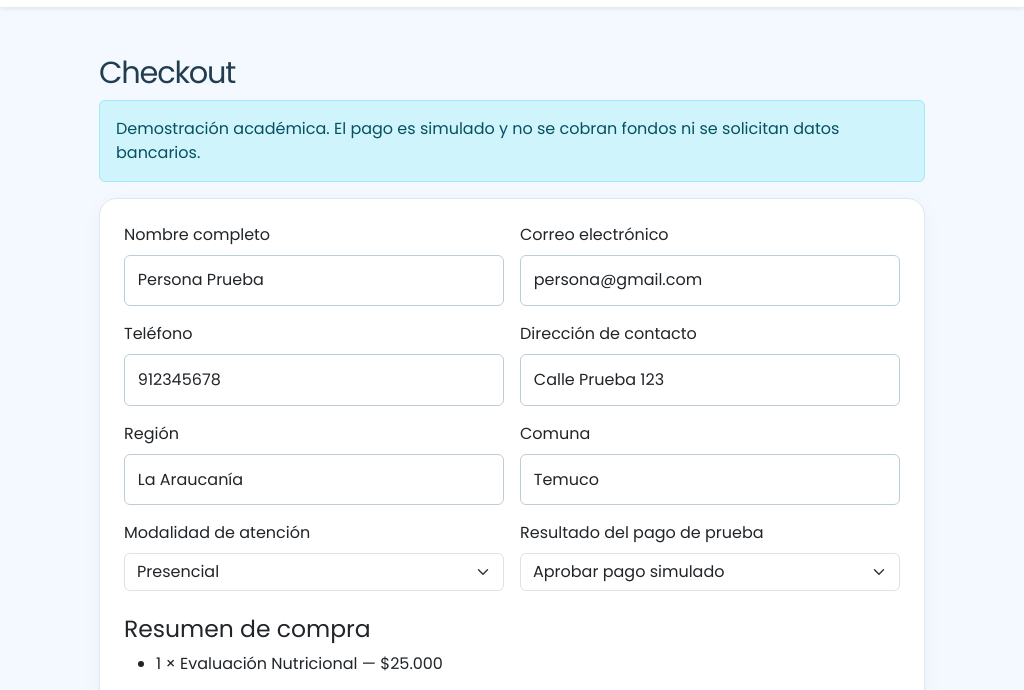
Test: Compras simuladas y comprobantes › conserva el carrito al rechazar el pago y permite reintentar
Select "Rechazar pago simulado" in the dropdown labelled "Resultado del pago de prueba". click: (710, 572)
box: [520,554,900,592]
(page scrolled)
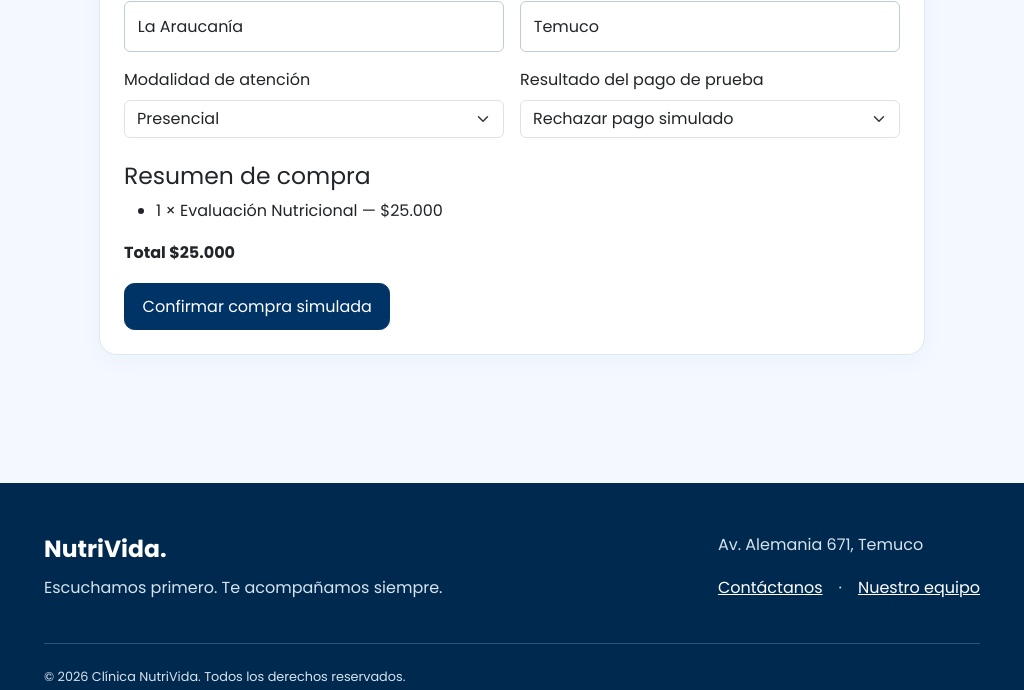
Click the button "Confirmar compra simulada". click: click(257, 307)
box: [124,283,390,330]
(page scrolled)
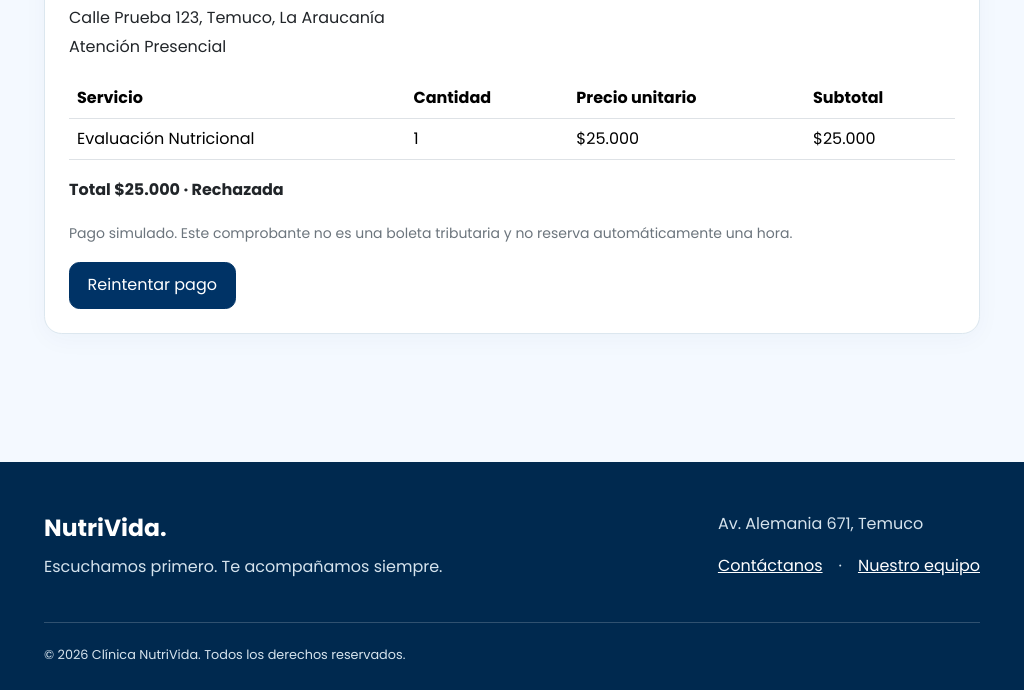
Click the button "Reintentar pago". click: click(152, 285)
box: [69,262,236,309]
(page scrolled)
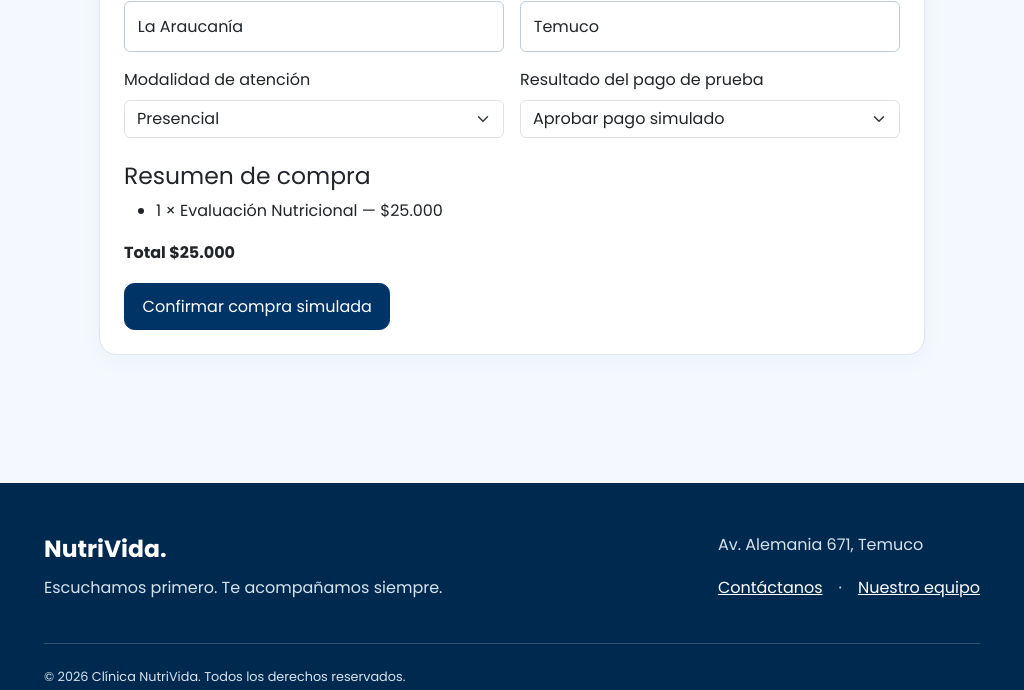
Click the button "Confirmar compra simulada". click: click(257, 307)
box: [124,283,390,330]
(page scrolled)
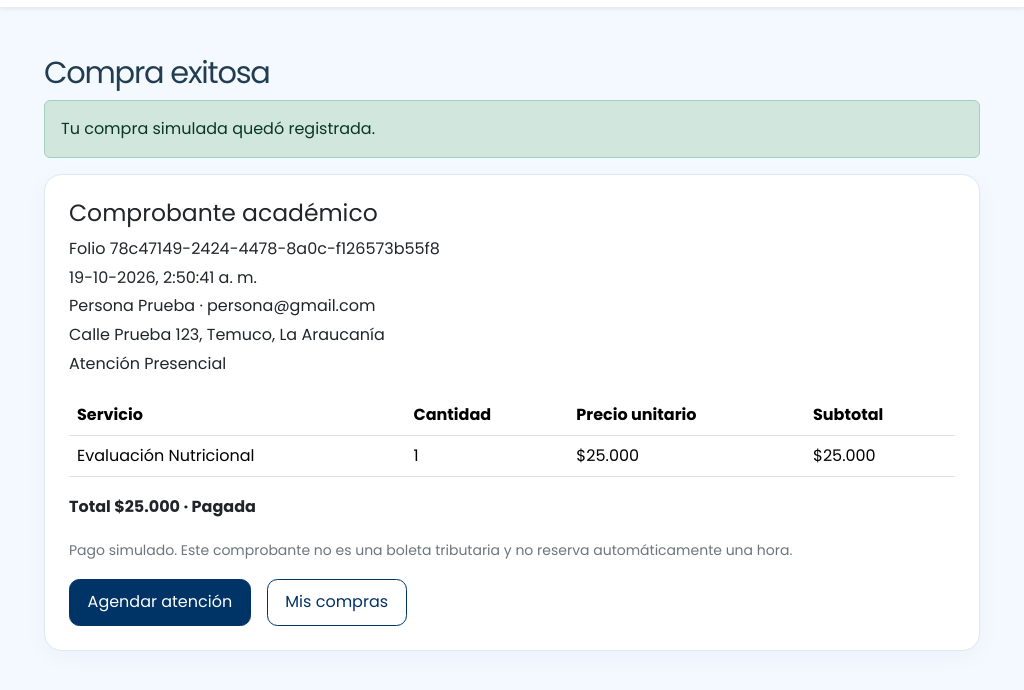
Check: the heading "Compra exitosa" is shown, box [44,51,270,94]
